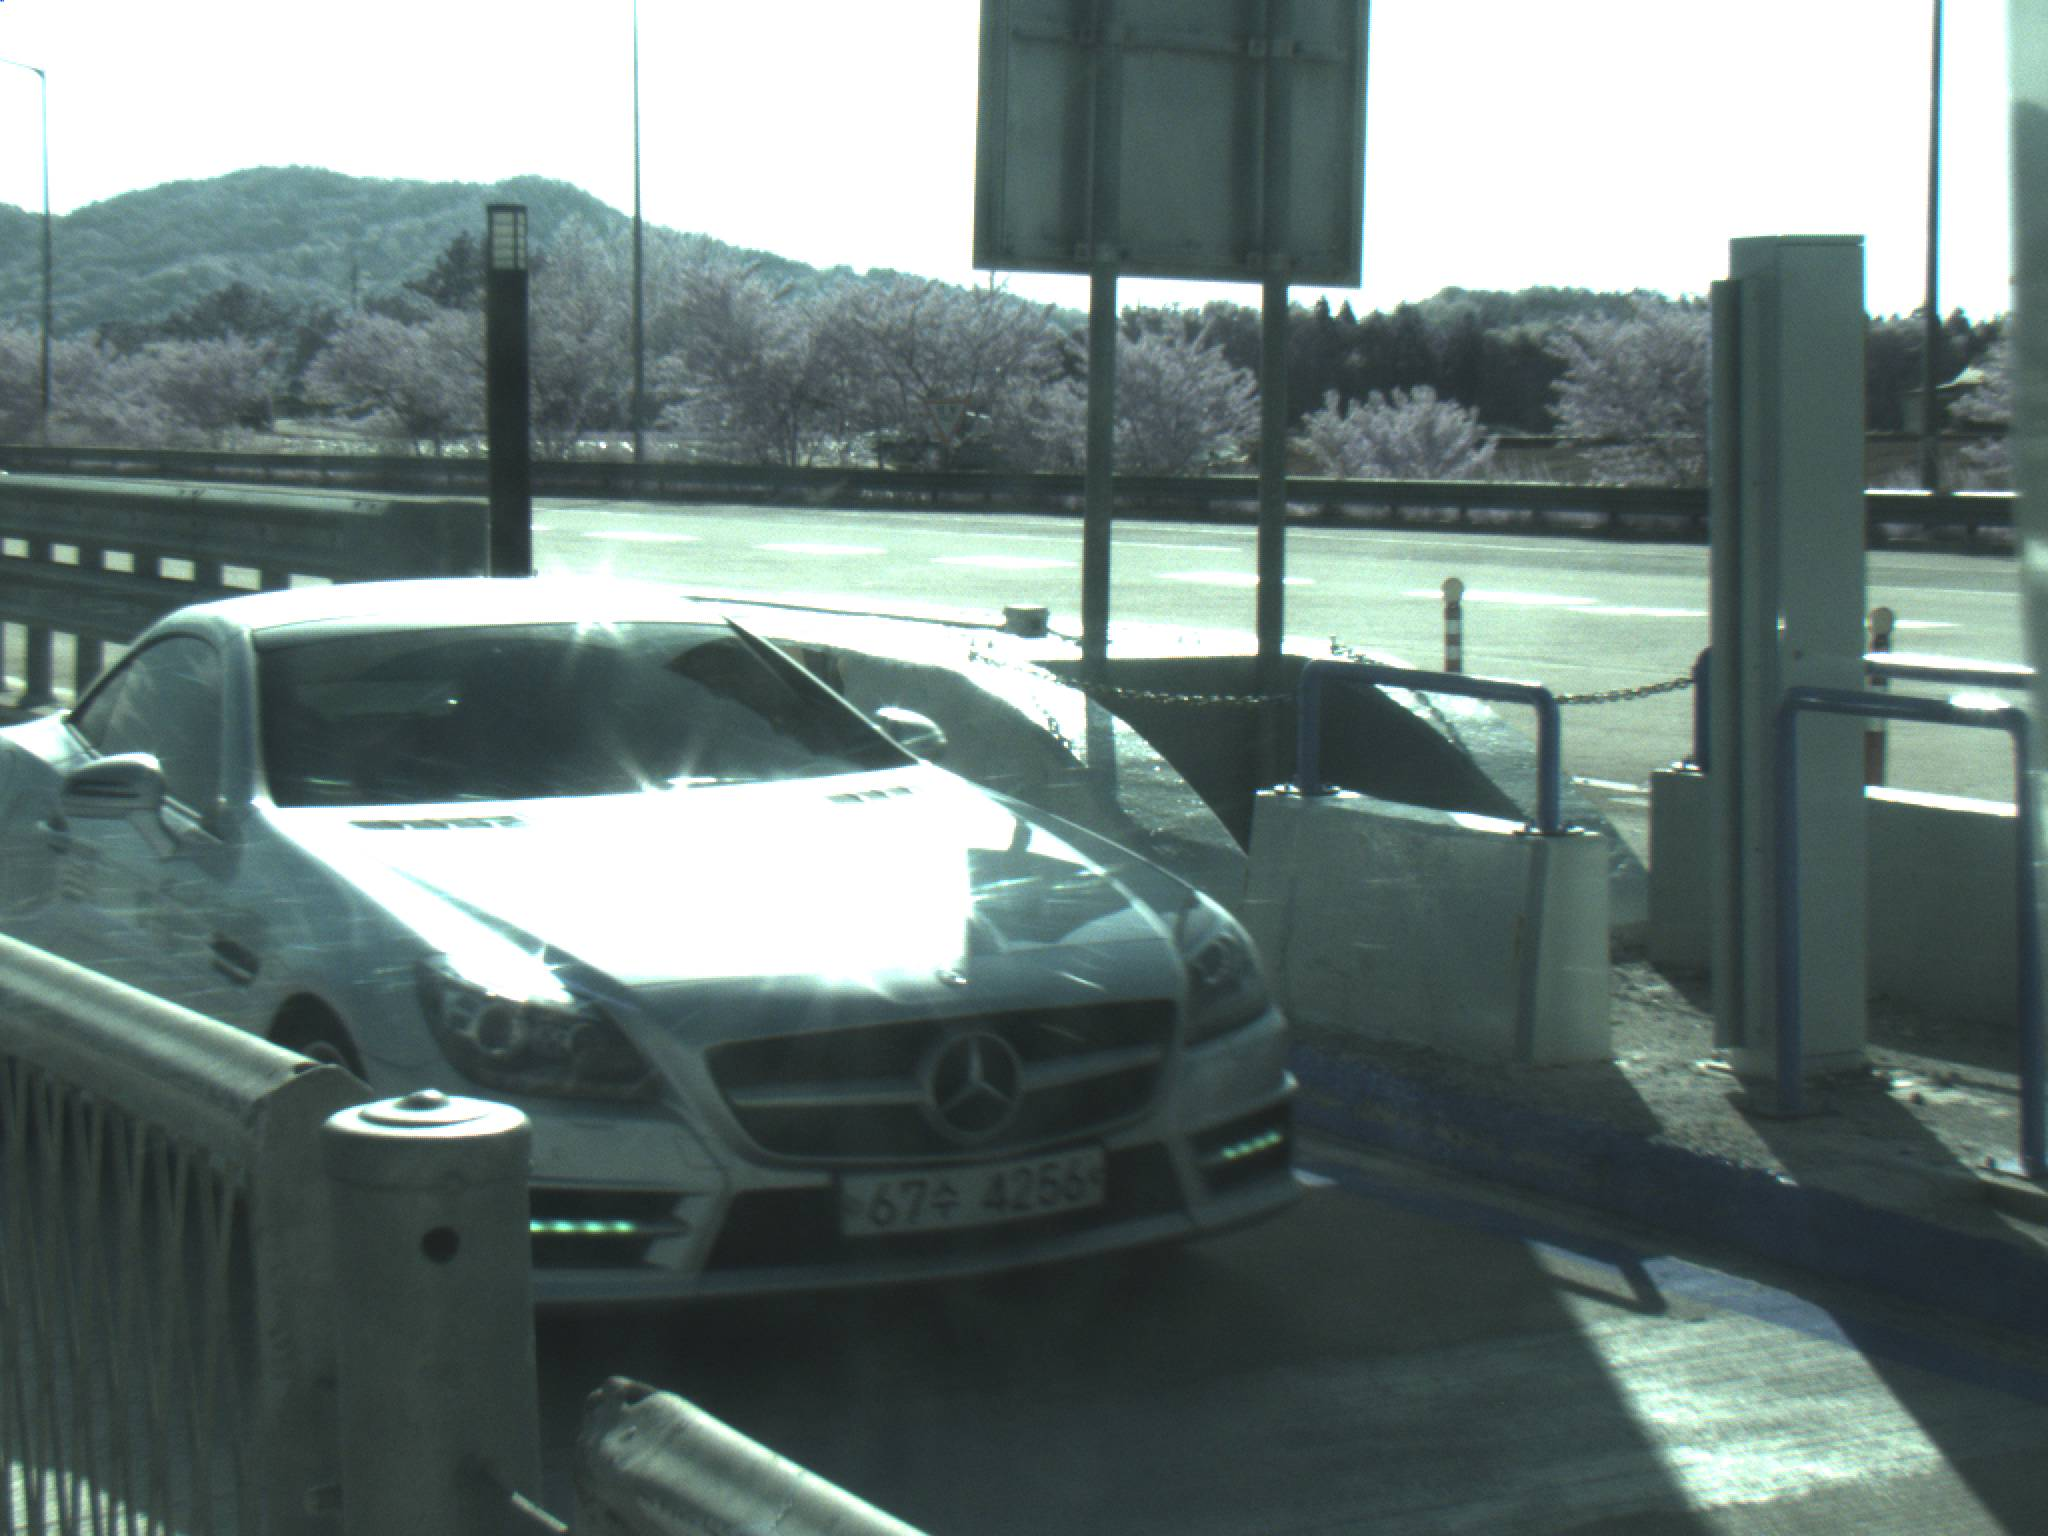car: (1, 568, 1299, 1370)
plate: (814, 1136, 1114, 1243)
